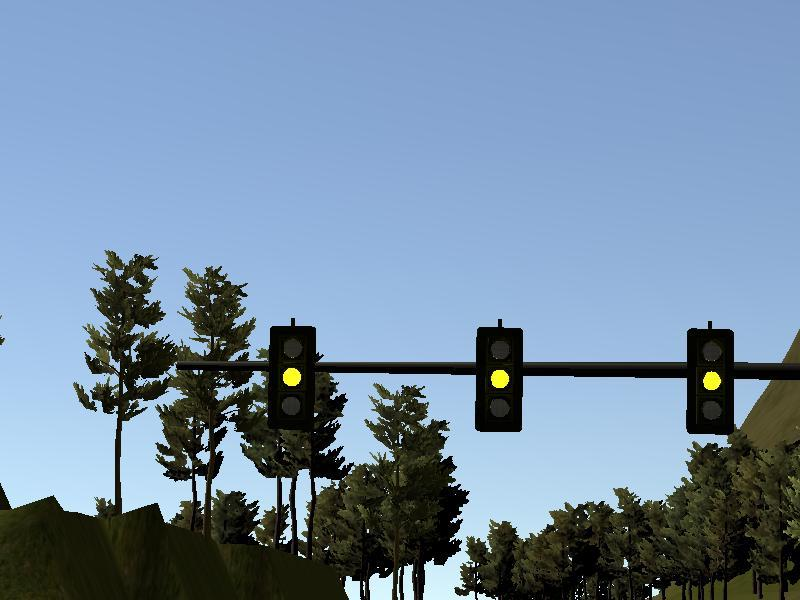Yellow: (687, 329, 733, 434), (271, 326, 314, 430), (478, 328, 521, 431)
